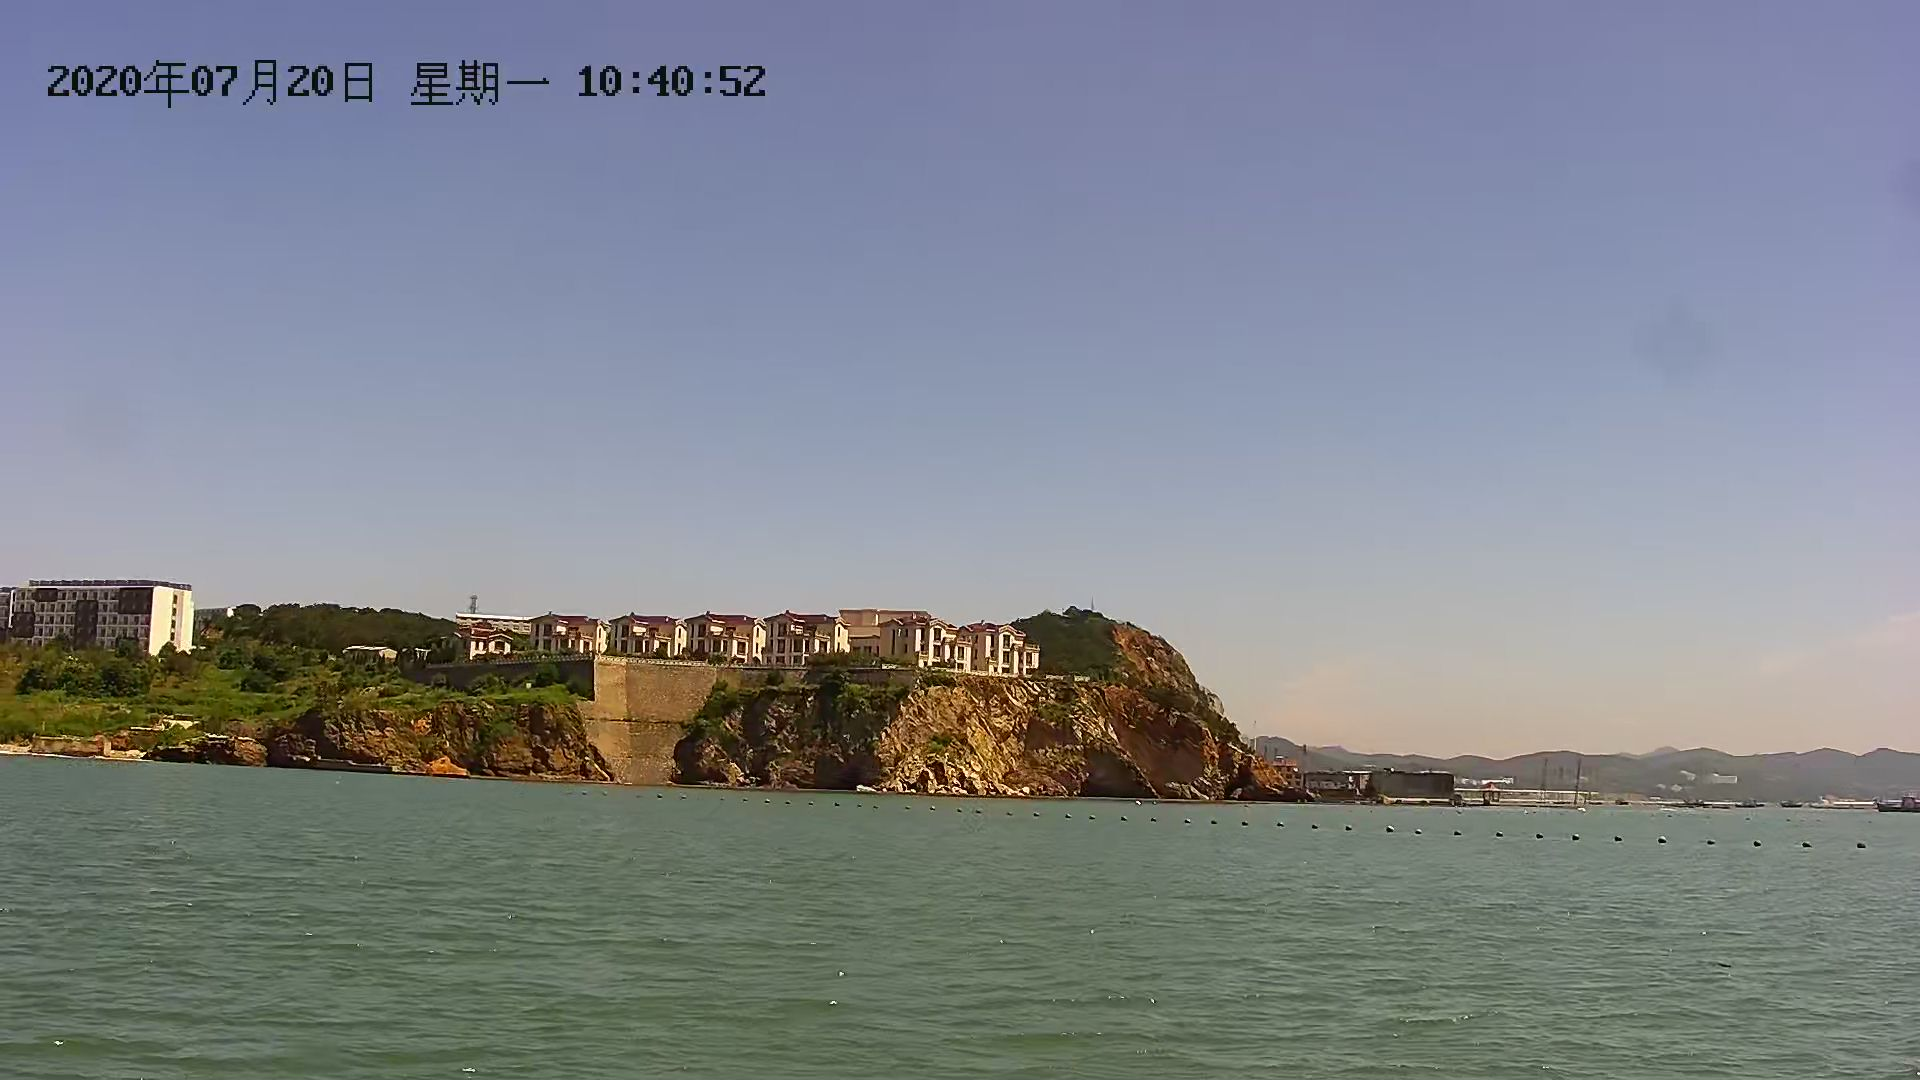ship: (1873, 793, 1920, 818)
